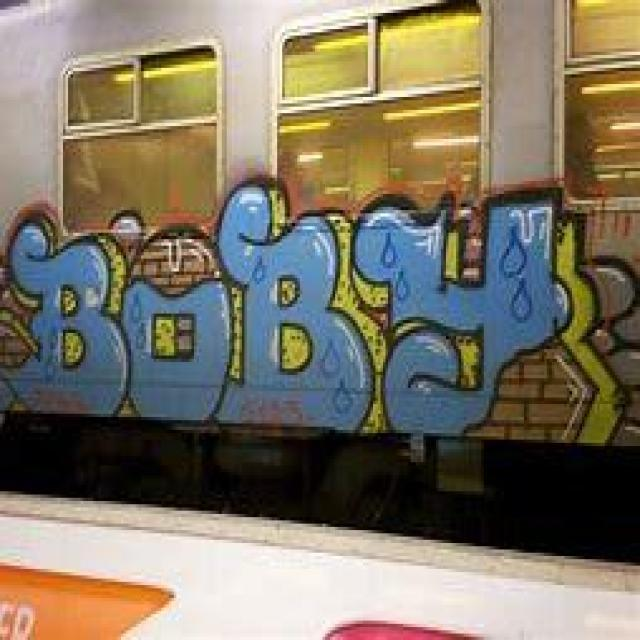nonspitting: (0, 172, 640, 442)
